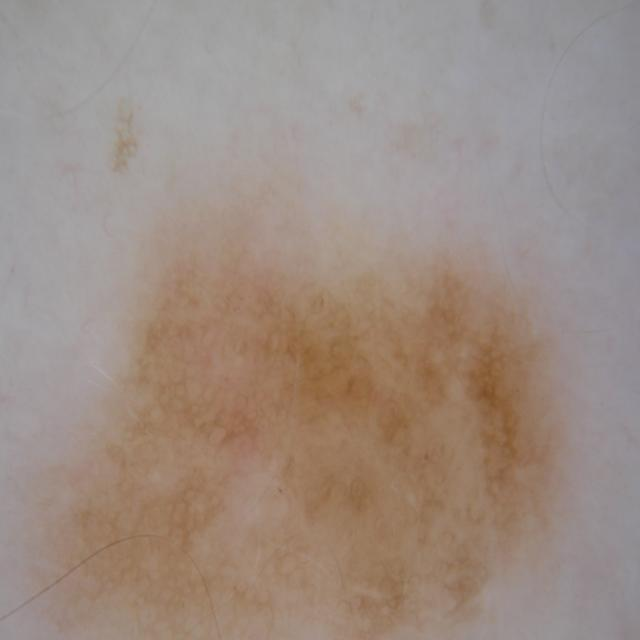Melanoma: (96, 240, 564, 640)
